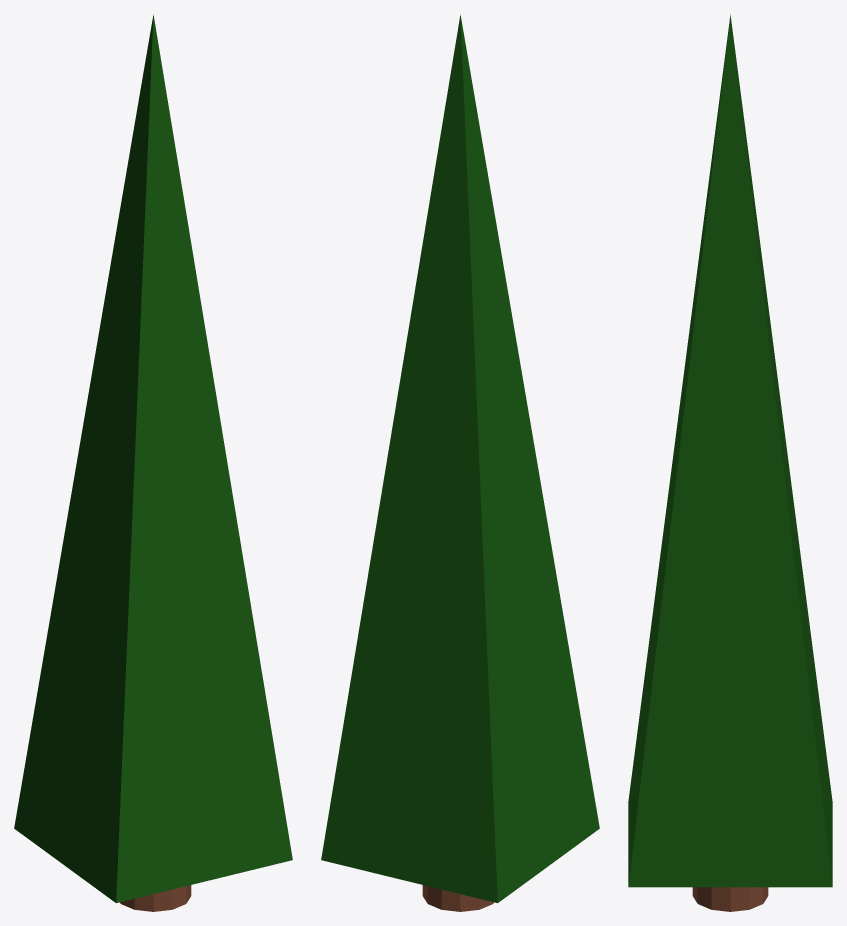
File: Tree_19_autumn_mat.fbx
The picture shows the model from 3 angles, left to right: view 1: azimuth 30°, elevation 25°; view 2: azimuth 150°, elevation 25°; view 3: azimuth 270°, elevation 25°; orthographic projection.
Visible parts, largest first — view 1: Tree_19_autumn_mat; view 2: Tree_19_autumn_mat; view 3: Tree_19_autumn_mat.
Part boxes in pixels (box(x1,y1,x2,y2)): Tree_19_autumn_mat: box(14, 14, 292, 911); Tree_19_autumn_mat: box(321, 14, 599, 911); Tree_19_autumn_mat: box(628, 14, 832, 911).
Size of the model in its own units: 2.39 by 11.38 by 2.39.
